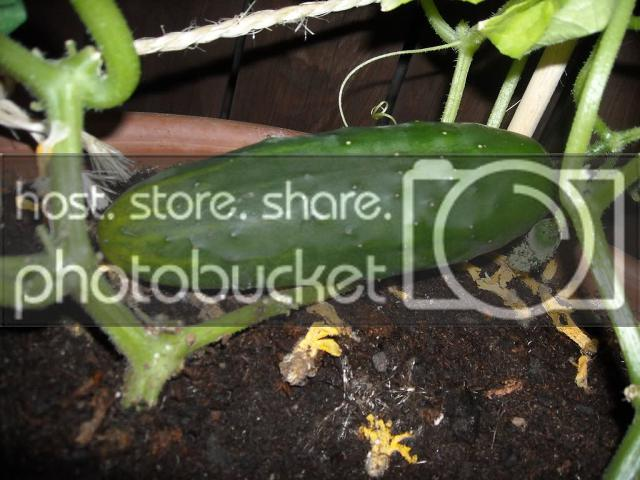cucumber: (98, 123, 554, 292)
